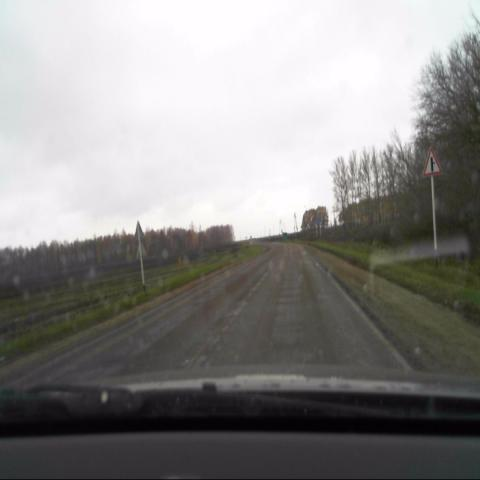2_3_2: (420, 146, 442, 178)
